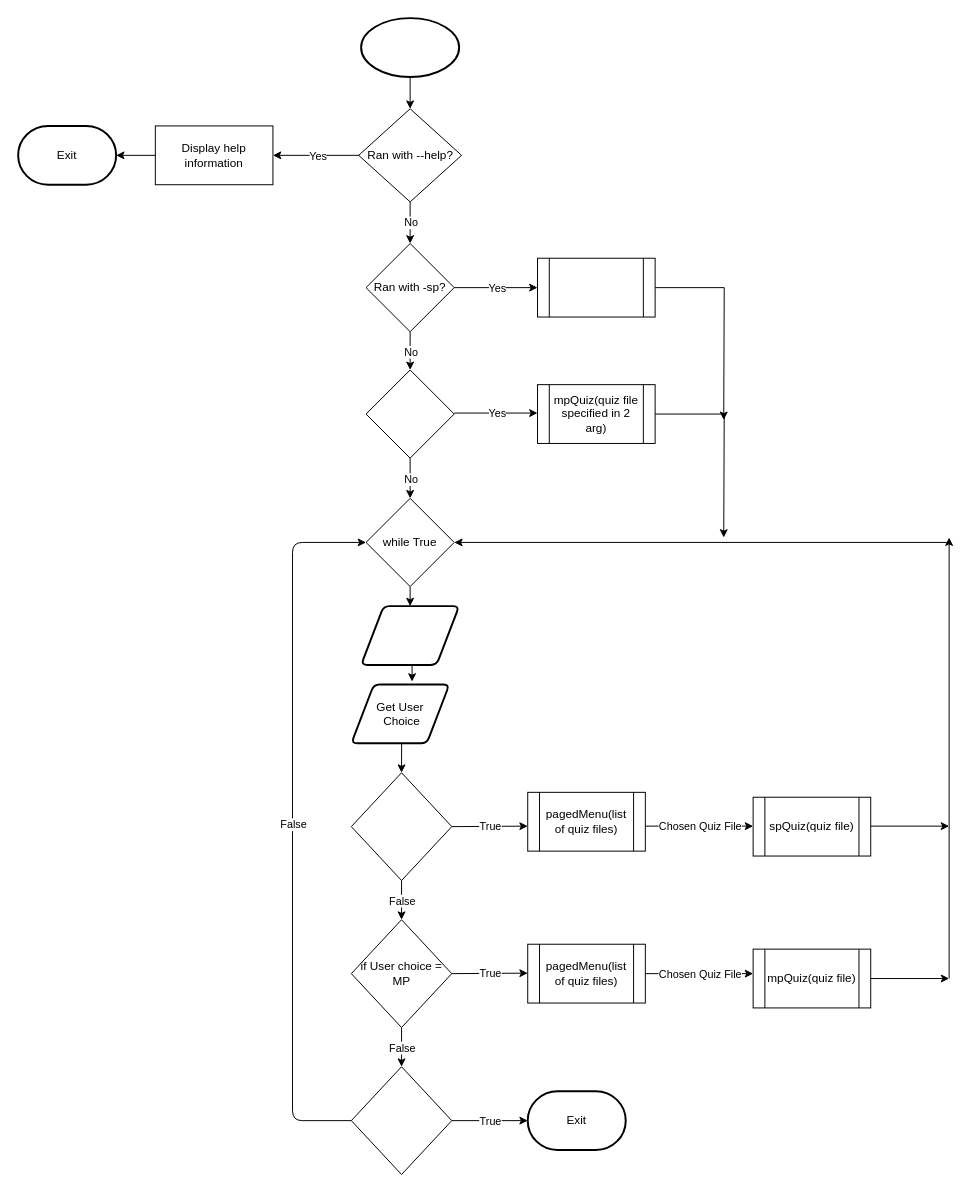
This 974x1192 diagram has some shape labels left out. The shapes that lost their labels are listed below. From the top down, each one's box as (x1, y1, x2, y2) in pixels, then its label:
(360, 17, 460, 77): Start
(537, 257, 655, 317): spQuiz(quiz file specified in 2 arg)
(365, 369, 454, 458): Ran with -mp?
(360, 605, 460, 665): Display Main Menu
(350, 772, 452, 881): if User choice = SP
(350, 1066, 452, 1175): if User choice = Exit
